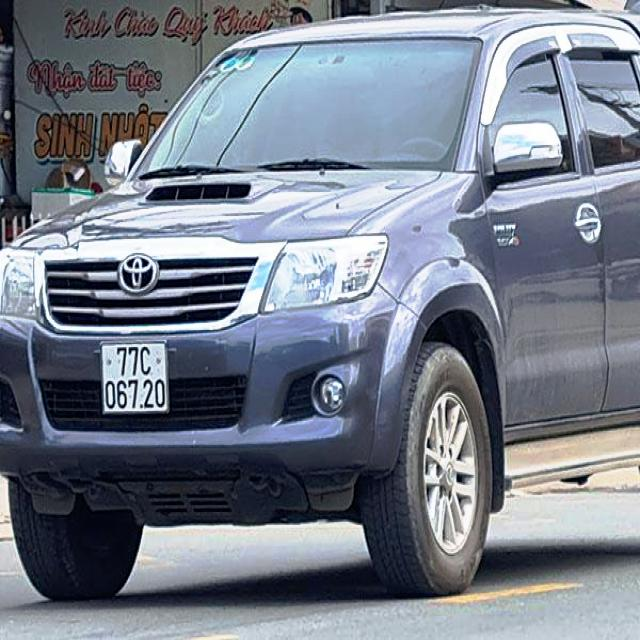license_plate: (105, 342, 170, 416)
